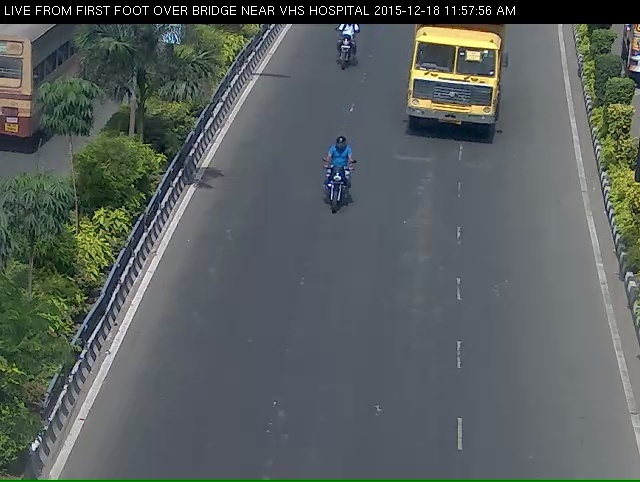Bus: (395, 19, 507, 158)
Person: (309, 149, 359, 243), (328, 20, 350, 89)
